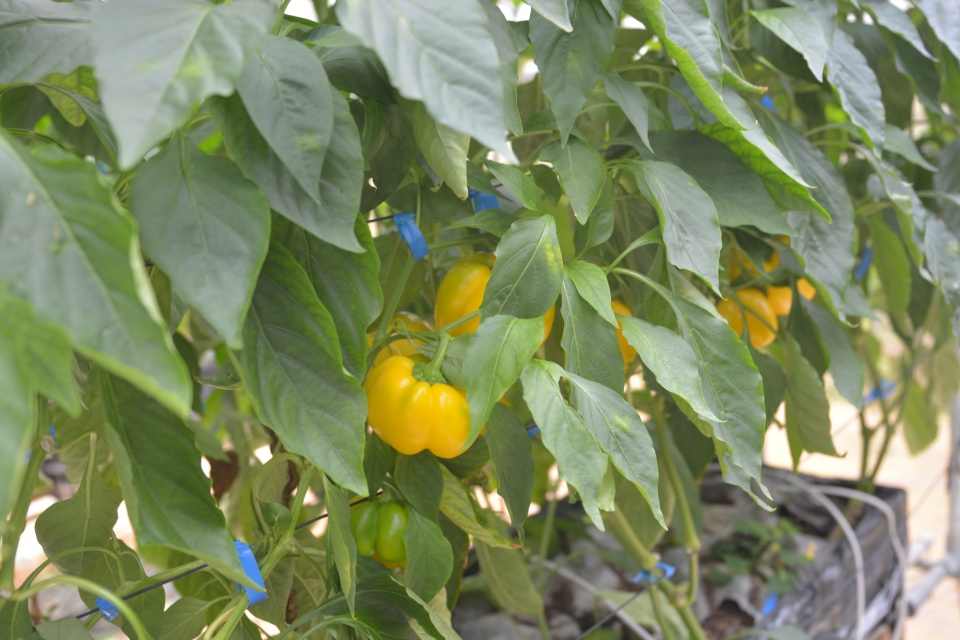fruit: (362, 352, 482, 459), (433, 251, 556, 349), (361, 307, 438, 391), (347, 497, 411, 563), (714, 286, 780, 349), (607, 297, 637, 375)
pedicle: (411, 360, 454, 385)
